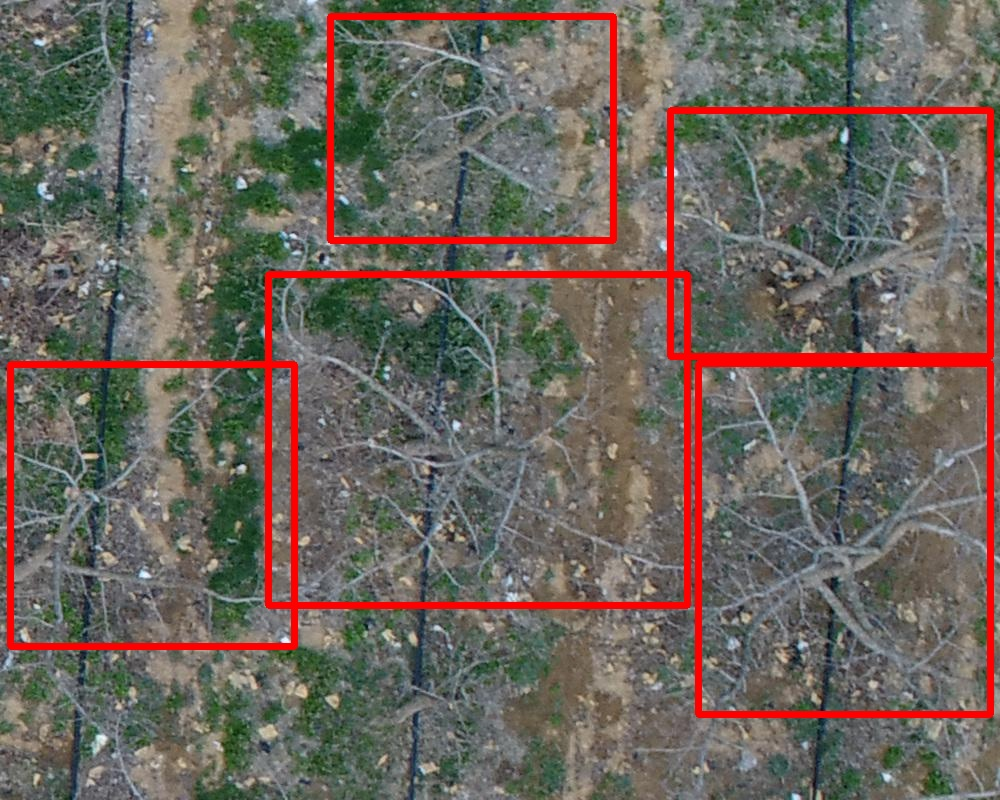apple: (268, 274, 687, 605), (698, 363, 990, 714), (10, 364, 294, 646), (670, 110, 990, 356), (330, 16, 613, 240)
